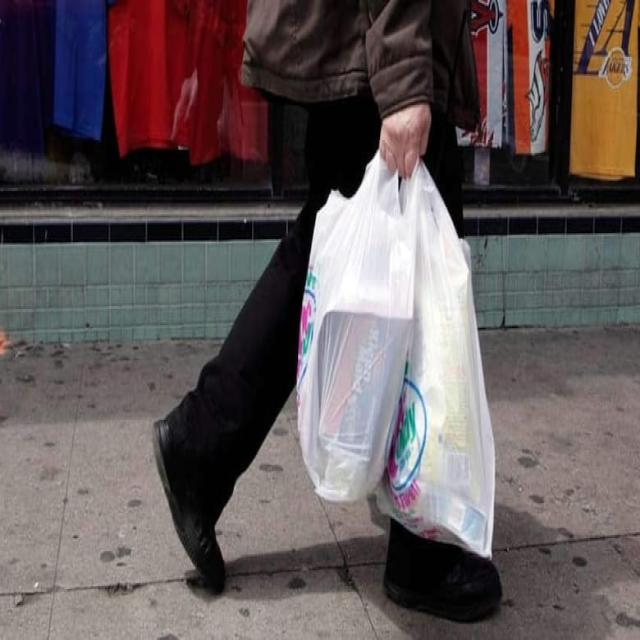plastic_bag: (269, 139, 509, 570)
